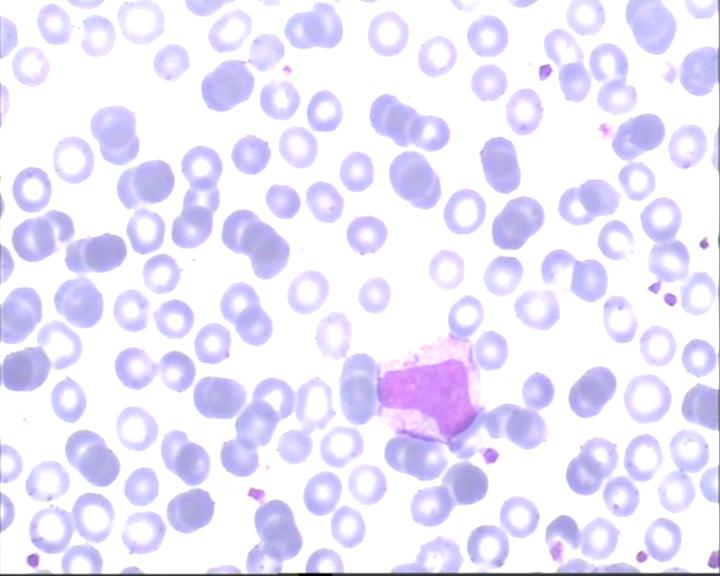mono: (372, 332, 485, 446)
